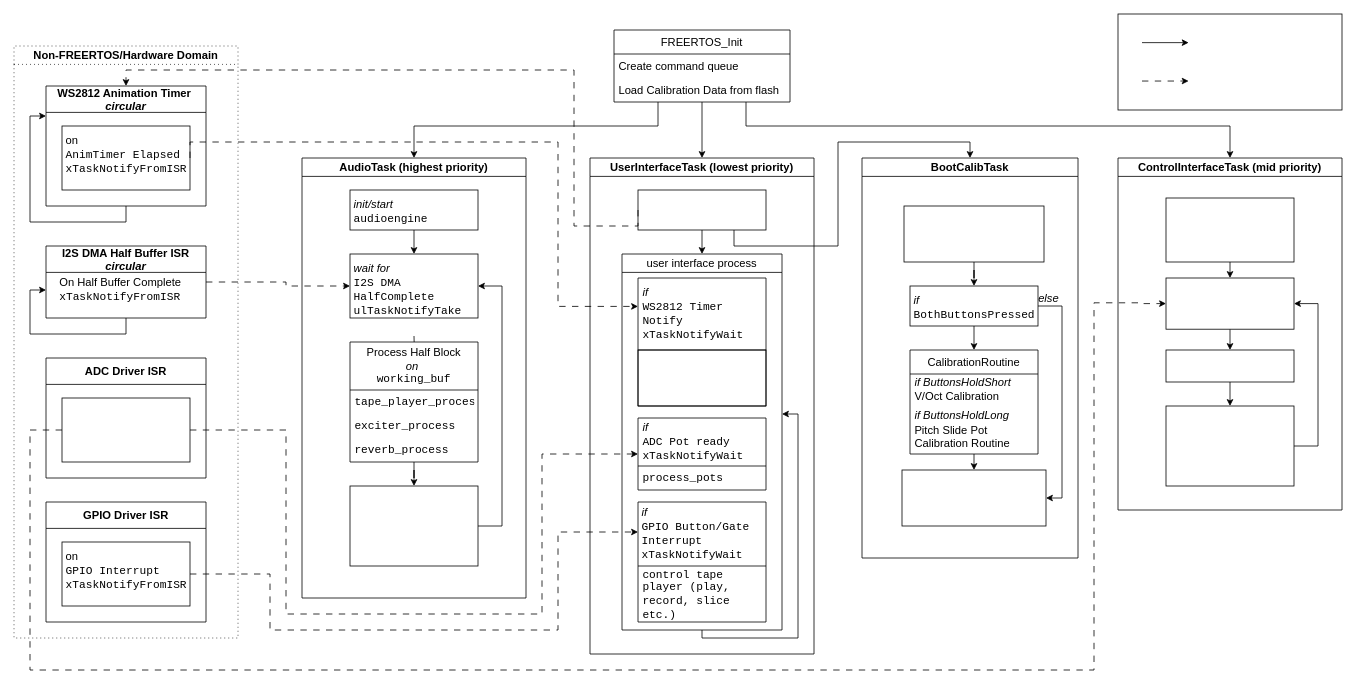
Image size: 1356x690. Some labels were removed from this diagram. Each missing label, with the centre of its shape:
drain tape_cmd_q (play/stop/record/slice) send commands to tape_player: point (413, 525)
for each LED Write to PWM buffer: point (701, 377)
init/start controlInterface with calibrationData: point (1229, 229)
init/start ws2812_driver: point (701, 209)
on ADC Conversion Complete xTaskNotifyFromISR: point (125, 429)
Process ADC data: point (1229, 365)
resume ControlInterfaceTask AudioTask: point (973, 497)
suspend ControlInterfaceTask AudioTask: point (973, 233)
Task /Execution Flow Intertask Communication /Signal: point (1229, 61)
wait for ADC CV Conversion ulTaskNotifyTake: point (1229, 303)
write control parameters to shared memory/param cache: point (1229, 445)
